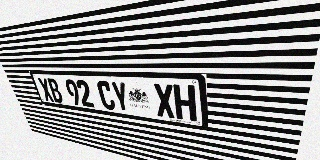2: (75, 80, 95, 108)
9: (64, 79, 83, 106)
B: (46, 78, 64, 103)
C: (96, 81, 116, 111)
H: (173, 84, 197, 122)
X: (153, 83, 176, 119), (37, 78, 55, 102)
Y: (110, 81, 131, 113)
